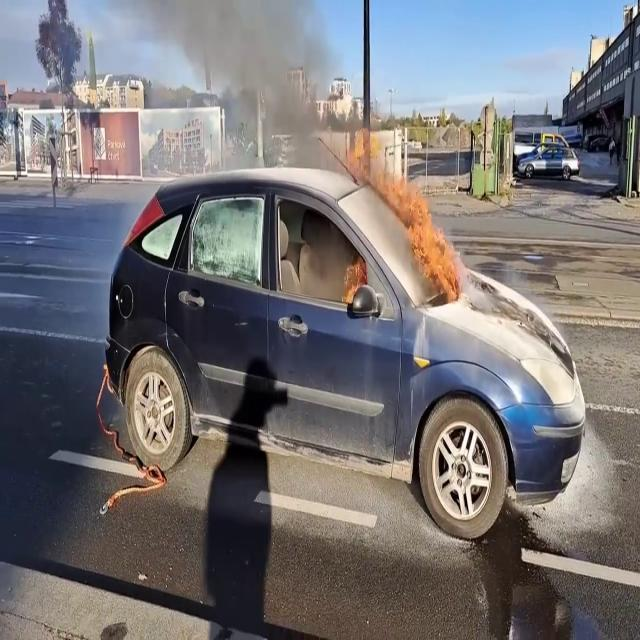Fire: (407, 195, 464, 302)
Smoke: (117, 0, 405, 195)
